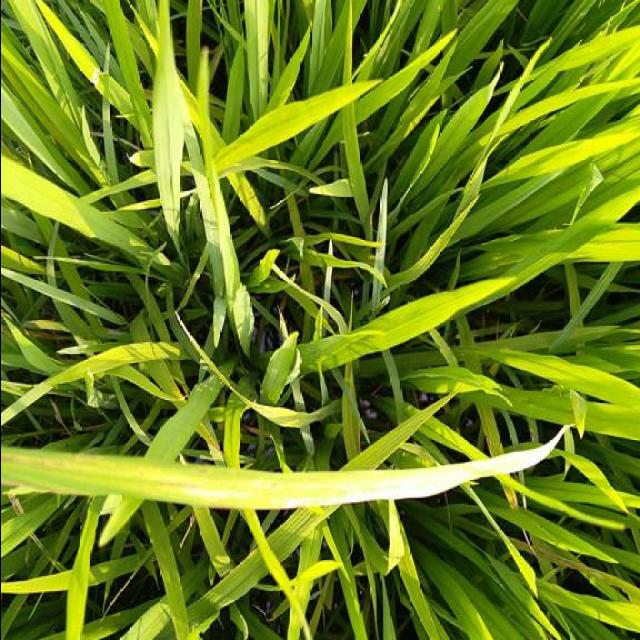Leaf Blight: (191, 431, 568, 511)
